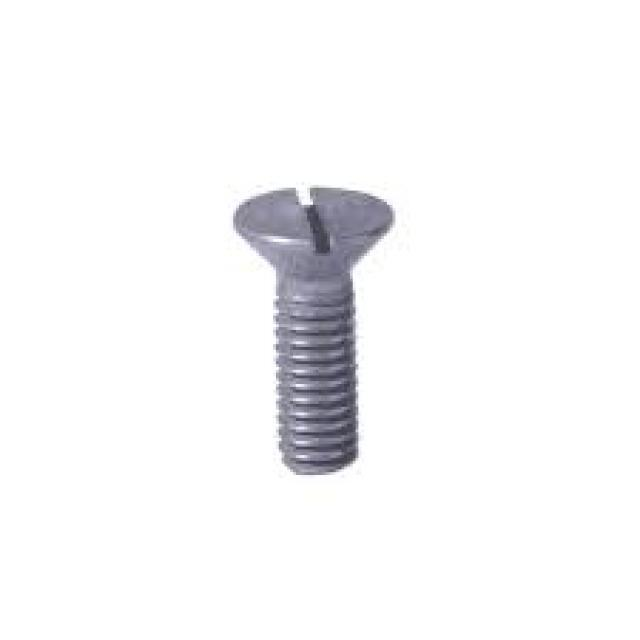Screw: (236, 188, 395, 475)
